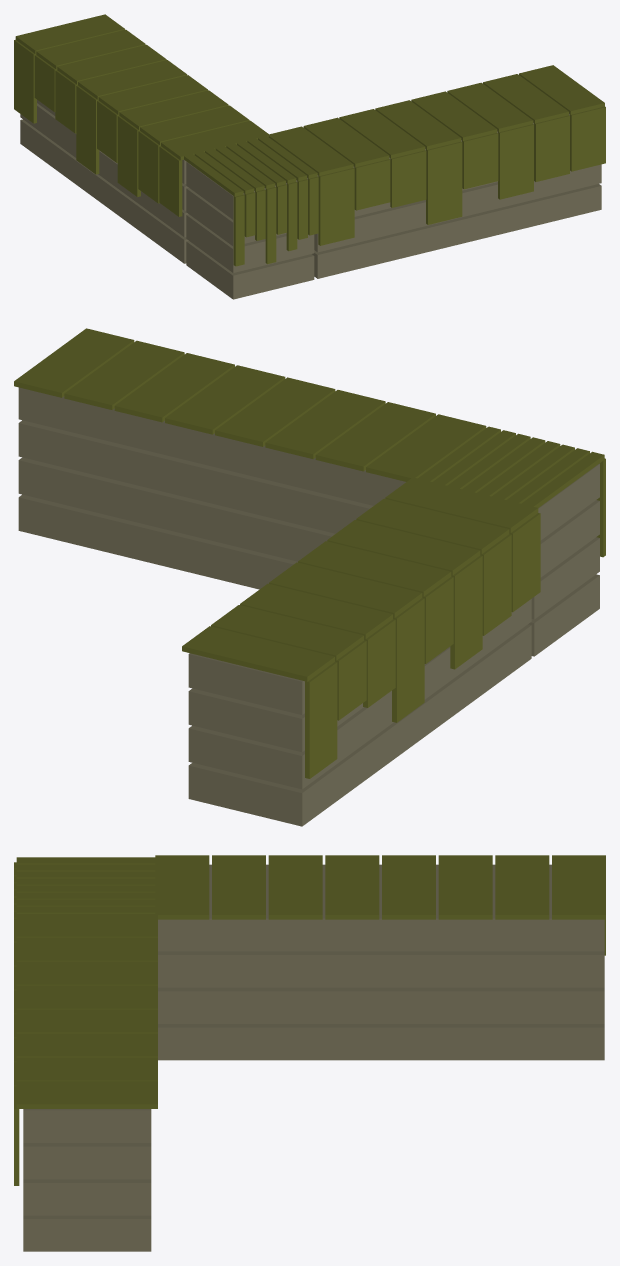
File: SM_SacosEsquina_v4_Red_e0_Sano_LOD1.fbx
3 views of the same model, one above another, from view 1: azimuth 30°, elevation 25°; view 2: azimuth 150°, elevation 25°; view 3: azimuth 270°, elevation 25° (orthographic). The views are drawn at different scales.
Parts seen in each view (by area): view 1: SM_sacos_piezas_v16_LOD1; view 2: SM_sacos_piezas_v16_LOD1; view 3: SM_sacos_piezas_v16_LOD1.
Part boxes in pixels (x1=…): SM_sacos_piezas_v16_LOD1: x1=14, y1=14, x2=605, y2=299; SM_sacos_piezas_v16_LOD1: x1=14, y1=328, x2=605, y2=826; SM_sacos_piezas_v16_LOD1: x1=14, y1=855, x2=605, y2=1251.
Bounding box in the file's own units: 4.44 × 1.23 × 4.44.
